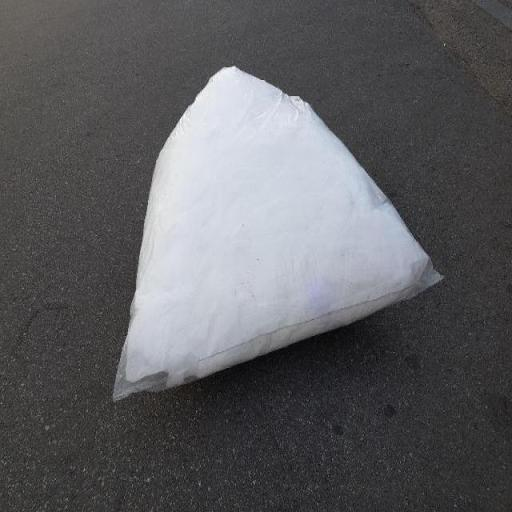plastic-bag: (110, 63, 448, 410)
